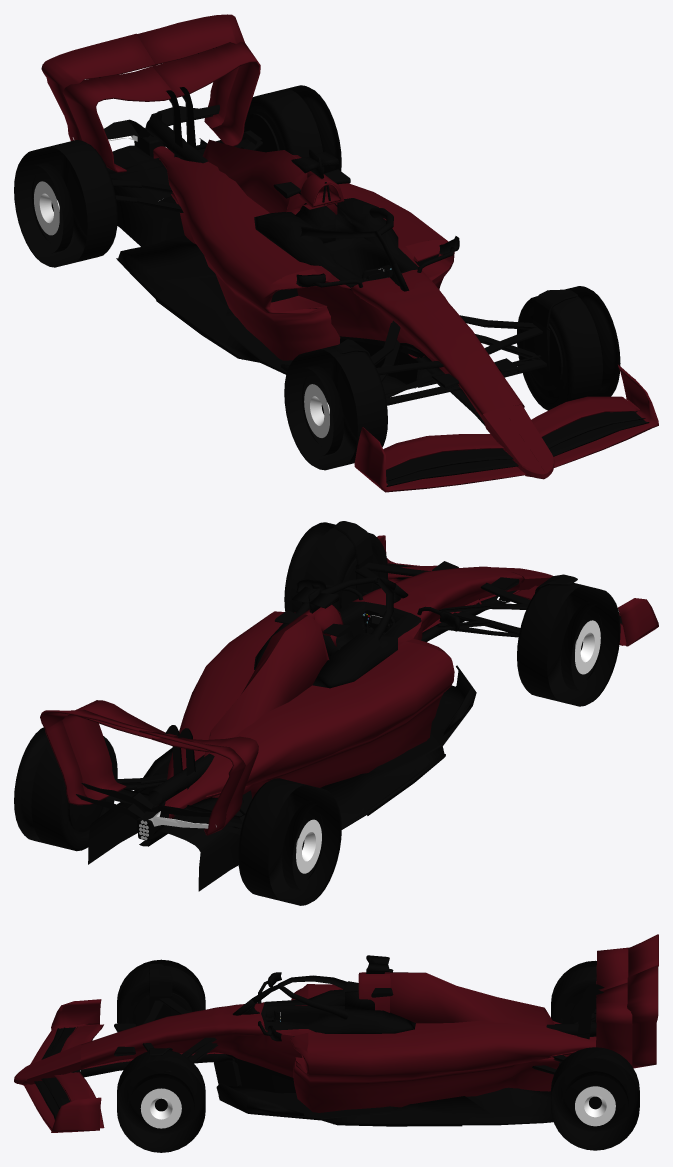
The picture shows the model from 3 angles, top to bottom: view 1: azimuth 30°, elevation 25°; view 2: azimuth 150°, elevation 25°; view 3: azimuth 270°, elevation 25°; orthographic projection. The views are drawn at different scales.
Visible parts, largest first — view 1: Plane.053, Plane.030, Plane.004, Cylinder.019, Cylinder.018, Plane.016, Cylinder.007, Plane.031, Cylinder.004, Plane.022, Plane, Plane.045 (+19 smaller); view 2: Plane.030, Cylinder.019, Cylinder.018, Plane.053, Plane.031, Plane.016, Cylinder.004, Plane, Plane.004, Plane.022, Cylinder.007, Plane.020 (+11 smaller); view 3: Plane, Plane.004, Plane.016, Cylinder.004, Cylinder.007, Plane.053, Plane.031, Cylinder.018, Plane.002, Plane.005, Cylinder.019, Plane.035 (+18 smaller).
Part boxes in pixels (left/top/right/bottom): Plane.053: left=41, top=14, right=260, bottom=172; Plane.030: left=153, top=146, right=352, bottom=360; Plane.004: left=297, top=269, right=524, bottom=425; Cylinder.019: left=14, top=140, right=117, bottom=267; Cylinder.018: left=284, top=345, right=387, bottom=470; Plane.016: left=116, top=235, right=433, bottom=392; Cylinder.007: left=517, top=286, right=620, bottom=410; Plane.031: left=202, top=139, right=344, bottom=214; Cylinder.004: left=240, top=85, right=341, bottom=173; Plane.022: left=107, top=138, right=206, bottom=246; Plane: left=158, top=146, right=454, bottom=289; Plane.045: left=481, top=405, right=554, bottom=479; Plane.030: left=165, top=621, right=454, bottom=818; Cylinder.019: left=238, top=778, right=341, bottom=905; Cylinder.018: left=517, top=583, right=620, bottom=706; Plane.053: left=40, top=700, right=258, bottom=835; Plane.031: left=204, top=604, right=343, bottom=756; Plane.016: left=134, top=665, right=476, bottom=829; Cylinder.004: left=14, top=727, right=117, bottom=851; Plane: left=158, top=611, right=295, bottom=806; Plane.004: left=352, top=566, right=523, bottom=641; Plane.022: left=88, top=784, right=242, bottom=891; Cylinder.007: left=284, top=522, right=387, bottom=612; Plane.020: left=313, top=607, right=421, bottom=688; Plane: left=266, top=1020, right=596, bottom=1112; Plane.004: left=80, top=1002, right=307, bottom=1080; Plane.016: left=216, top=1083, right=553, bottom=1126; Cylinder.004: left=551, top=1047, right=639, bottom=1150; Cylinder.007: left=117, top=1050, right=205, bottom=1152; Plane.053: left=596, top=934, right=658, bottom=1068; Plane.031: left=358, top=972, right=554, bottom=1026; Cylinder.018: left=117, top=959, right=205, bottom=1023; Plane.002: left=261, top=1009, right=415, bottom=1033; Plane.005: left=24, top=1084, right=101, bottom=1132; Cylinder.019: left=551, top=960, right=596, bottom=1023; Plane.035: left=30, top=999, right=101, bottom=1064.
Size of the model in its own units: 1.78 by 1.08 by 4.46.
